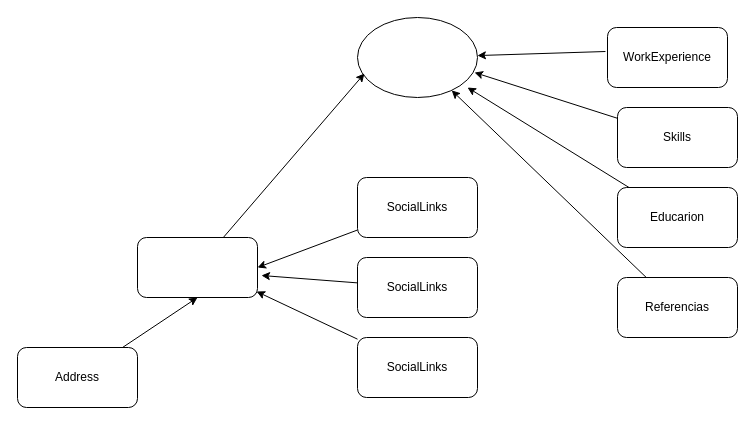
This 755x425 diagram has some shape labels left out. Here are the shapes that lost their labels. From the top down, the centre of each, then its label:
At point (417, 57): "Resume".
At point (197, 267): "Contact".
